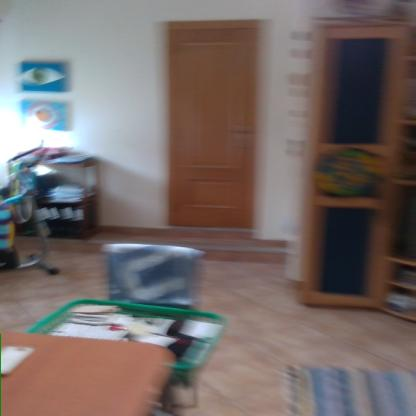closed: (156, 12, 274, 236)
